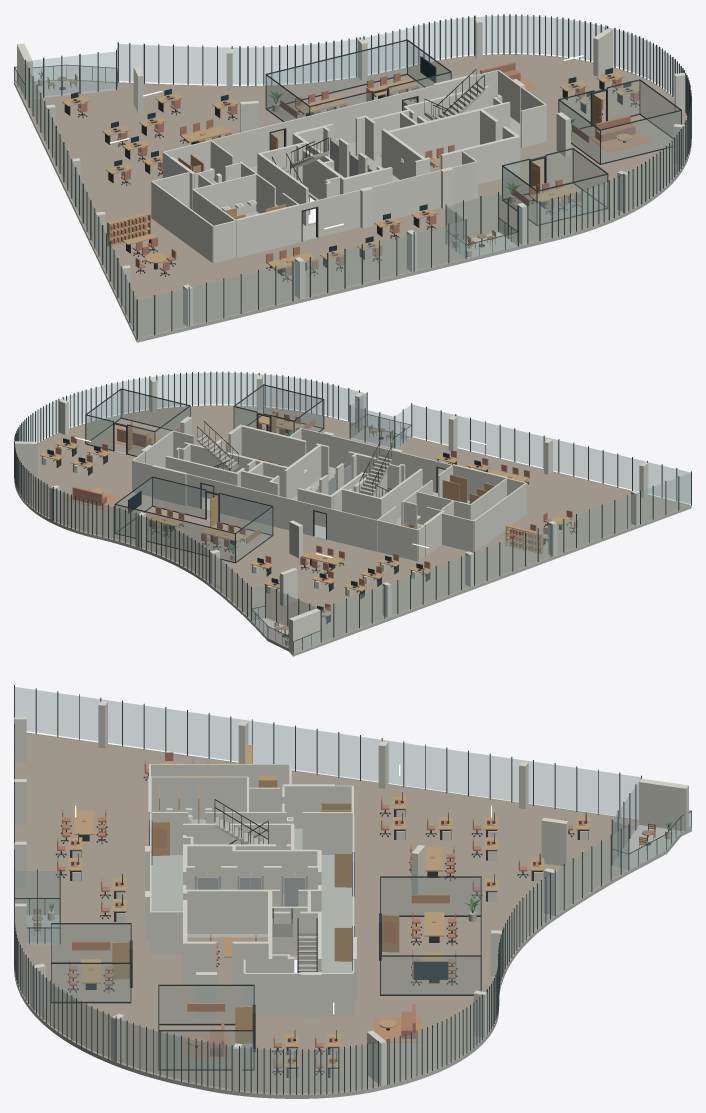
The model's file is office-floor-03-r3.glb.
3 views of the same model, one above another, from view 1: azimuth 30°, elevation 25°; view 2: azimuth 150°, elevation 25°; view 3: azimuth 270°, elevation 25° (orthographic). The views are drawn at different scales.
Visible parts, largest first — view 1: SOURCE FLOOR | registered floor slab, SOURCE TRACED PARTITION | corrected R3 tenant south.001, R3 PROPOSED PARTITION | training-north.002, SOURCE WALL | 57, SOURCE WALL | 170, R3 PROPOSED PARTITION | focus-east.002, SOURCE TRACED PARTITION | service corridor.015, SOURCE TRACED PARTITION | corrected R3 tenant north.001, SOURCE WALL | 60, R3 PROPOSED PARTITION | meeting-south.002, SOURCE FLOOR | slab edge.148, SOURCE TRACED PARTITION | corrected R3 tenant north (+75 smaller); view 2: SOURCE FLOOR | registered floor slab, SOURCE TRACED PARTITION | corrected R3 tenant north.001, R3 PROPOSED PARTITION | training-north.002, SOURCE TRACED PARTITION | corrected R3 tenant south.001, SOURCE WALL | 60, R3 PROPOSED PARTITION | focus-east.002, SOURCE TRACED PARTITION | service corridor.015, SOURCE TRACED PARTITION | corrected R3 tenant north, SOURCE FLOOR | slab edge, R3 PROPOSED PARTITION | meeting-south.002, R3 PROPOSED PARTITION | training-north.004, R3 PROPOSED PARTITION | training-north.003 (+41 smaller); view 3: SOURCE FLOOR | registered floor slab, SOURCE CORRIDOR | circulation finish, R3 PROPOSED PARTITION | training-north.001, SOURCE TRACED PARTITION | service corridor.021, SOURCE WALL | 56, SOURCE TRACED PARTITION | service corridor.010, R3 PROPOSED PARTITION | training-north, R3 PROPOSED PARTITION | focus-east, R3 PROPOSED PARTITION | meeting-south.001, R3 PROPOSED PARTITION | focus-east.001, SOURCE WALL | 169, R3 PROPOSED PARTITION | meeting-south (+54 smaller).
Boxes of the visible parts, x1,y1,x2,y2 form: SOURCE FLOOR | registered floor slab: [17, 54, 687, 338]; SOURCE TRACED PARTITION | corrected R3 tenant south.001: [317, 161, 476, 237]; R3 PROPOSED PARTITION | training-north.002: [267, 41, 406, 107]; SOURCE WALL | 57: [388, 108, 482, 158]; SOURCE WALL | 170: [235, 204, 300, 257]; R3 PROPOSED PARTITION | focus-east.002: [601, 111, 680, 163]; SOURCE TRACED PARTITION | service corridor.015: [151, 181, 213, 262]; SOURCE TRACED PARTITION | corrected R3 tenant north.001: [285, 93, 401, 146]; SOURCE WALL | 60: [440, 136, 516, 184]; R3 PROPOSED PARTITION | meeting-south.002: [538, 175, 607, 223]; SOURCE FLOOR | slab edge.148: [137, 244, 527, 342]; SOURCE TRACED PARTITION | corrected R3 tenant north: [210, 125, 269, 167]; SOURCE FLOOR | registered floor slab: [19, 405, 690, 648]; SOURCE TRACED PARTITION | corrected R3 tenant north.001: [214, 480, 313, 535]; R3 PROPOSED PARTITION | training-north.002: [115, 505, 234, 561]; SOURCE TRACED PARTITION | corrected R3 tenant south.001: [301, 428, 436, 492]; SOURCE WALL | 60: [241, 425, 306, 466]; R3 PROPOSED PARTITION | focus-east.002: [121, 390, 189, 431]; SOURCE TRACED PARTITION | service corridor.015: [474, 483, 526, 551]; SOURCE TRACED PARTITION | corrected R3 tenant north: [327, 508, 377, 551]; SOURCE FLOOR | slab edge: [293, 505, 691, 656]; R3 PROPOSED PARTITION | meeting-south.002: [264, 385, 322, 427]; R3 PROPOSED PARTITION | training-north.004: [153, 478, 204, 517]; R3 PROPOSED PARTITION | training-north.003: [220, 494, 271, 534]; SOURCE FLOOR | registered floor slab: [15, 733, 638, 1094]; SOURCE CORRIDOR | circulation finish: [151, 855, 352, 972]; R3 PROPOSED PARTITION | training-north.001: [381, 957, 480, 994]; SOURCE TRACED PARTITION | service corridor.021: [244, 973, 352, 1015]; SOURCE WALL | 56: [183, 889, 272, 933]; SOURCE TRACED PARTITION | service corridor.010: [151, 776, 247, 819]; R3 PROPOSED PARTITION | training-north: [381, 878, 480, 915]; R3 PROPOSED PARTITION | focus-east: [159, 986, 253, 1023]; R3 PROPOSED PARTITION | meeting-south.001: [52, 964, 130, 1001]; R3 PROPOSED PARTITION | focus-east.001: [161, 1031, 253, 1068]; SOURCE WALL | 169: [639, 778, 688, 831]; R3 PROPOSED PARTITION | meeting-south: [52, 924, 130, 961].
Bounding box in the file's own units: 49.76 × 5.32 × 39.12.
